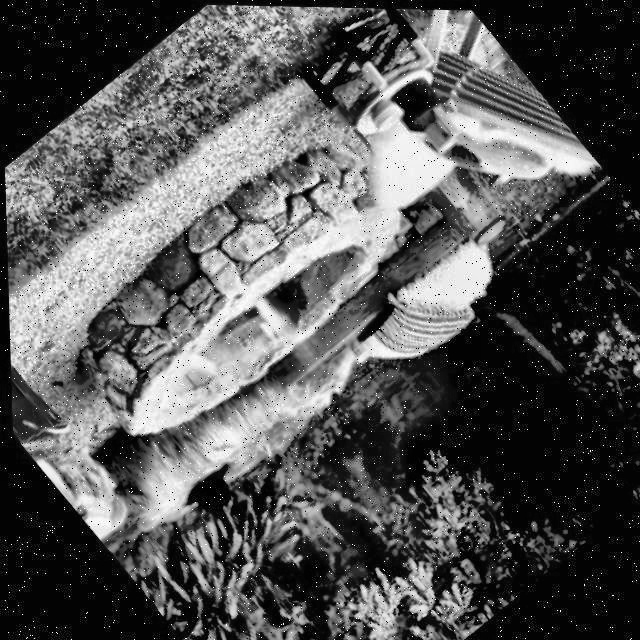Fire: (238, 283, 335, 386), (181, 340, 246, 408)
